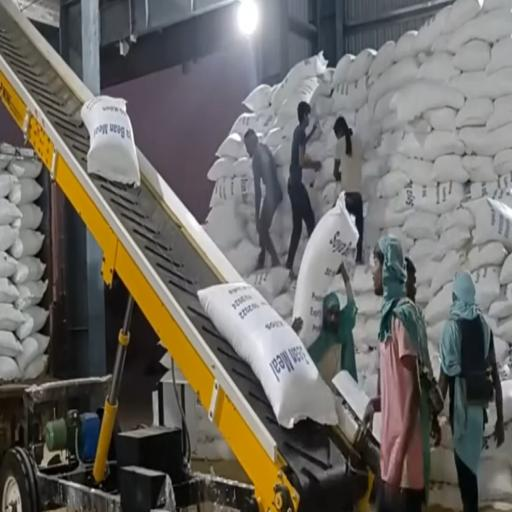Rice-bag-10: (198, 282, 337, 428), (292, 192, 358, 348), (81, 96, 140, 185)
c-belt: (0, 0, 367, 511)
other: (12, 0, 453, 220)
